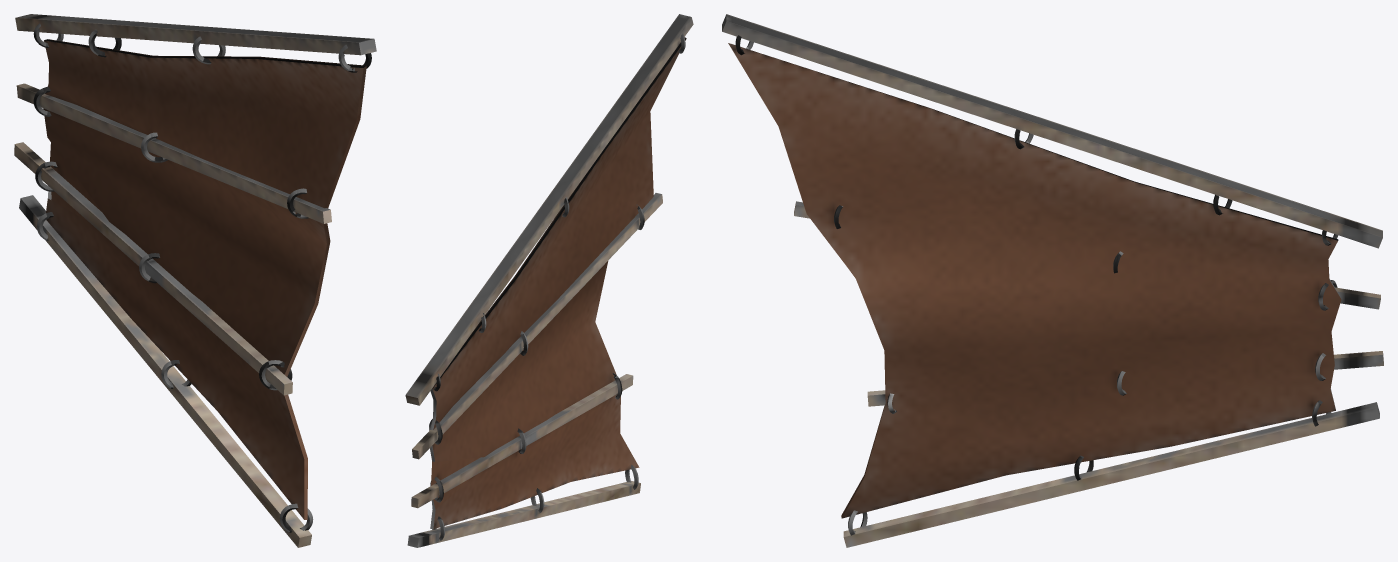
The model's file is ColaDirigible.obj.
3 renders of one model, left to right at view 1: azimuth 30°, elevation 25°; view 2: azimuth 150°, elevation 25°; view 3: azimuth 270°, elevation 25°, orthographic. The views are drawn at different scales.
Visible parts, largest first — view 1: colaDirigible_02___Default; view 2: colaDirigible_02___Default; view 3: colaDirigible_02___Default.
Boxes of the visible parts, bbox=[...] form: colaDirigible_02___Default: bbox=[14, 14, 376, 547]; colaDirigible_02___Default: bbox=[405, 14, 693, 547]; colaDirigible_02___Default: bbox=[722, 14, 1383, 547].
Size of the model in its own units: 0.346 by 3.82 by 4.35.
